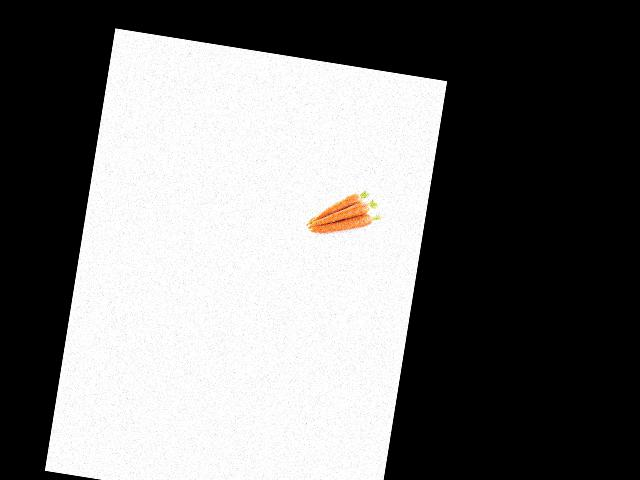carrot: (312, 206, 384, 254)
